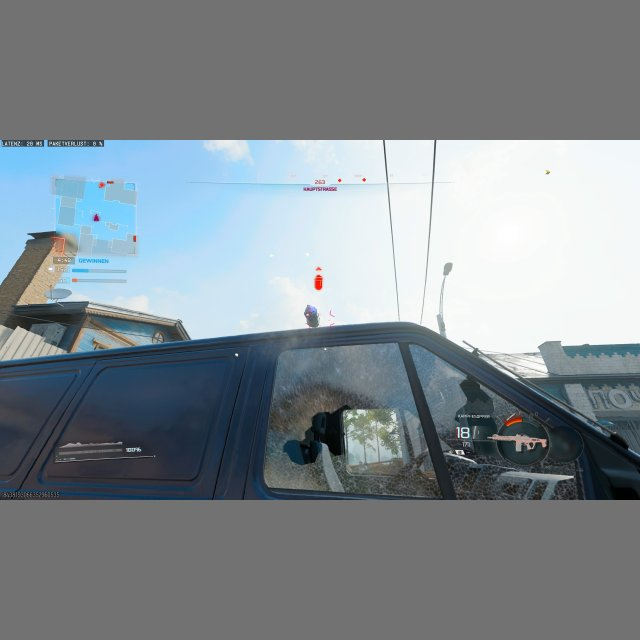player: (304, 304, 319, 328), (152, 331, 164, 344)
